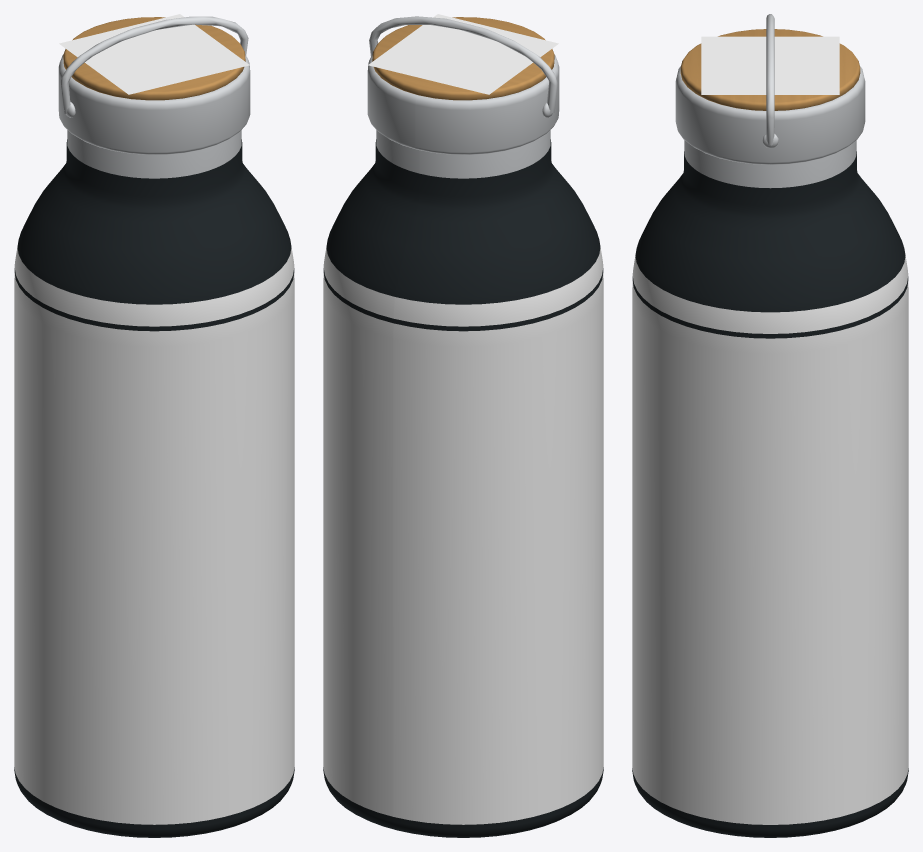
File: bottle-low-v01.glb
3 renders of one model, left to right at view 1: azimuth 30°, elevation 25°; view 2: azimuth 150°, elevation 25°; view 3: azimuth 270°, elevation 25°, orthographic.
Parts seen in each view (by area): view 1: BottleBodyDecoration, VacuumBottleBody, LidSteelCollar, BambooTopDecoration, SteelNeckAndInnerWall, LidBambooTop, SteelCarryHandle; view 2: BottleBodyDecoration, VacuumBottleBody, LidSteelCollar, BambooTopDecoration, SteelNeckAndInnerWall, LidBambooTop, SteelCarryHandle; view 3: BottleBodyDecoration, VacuumBottleBody, LidSteelCollar, BambooTopDecoration, SteelNeckAndInnerWall, LidBambooTop, SteelCarryHandle.
Boxes of the visible parts, x1,y1,x2,y2 form: BottleBodyDecoration: (14,240,294,824); VacuumBottleBody: (14,139,294,837); LidSteelCollar: (58,54,250,154); BambooTopDecoration: (59,14,249,94); SteelNeckAndInnerWall: (67,130,241,178); LidBambooTop: (63,17,245,100); SteelCarryHandle: (60,16,248,113); BottleBodyDecoration: (323,240,603,824); VacuumBottleBody: (323,139,603,837); LidSteelCollar: (367,54,559,154); BambooTopDecoration: (368,14,558,94); SteelNeckAndInnerWall: (376,130,550,178); LidBambooTop: (372,17,554,100); SteelCarryHandle: (369,16,557,113); BottleBodyDecoration: (632,255,908,824); VacuumBottleBody: (632,151,908,837); LidSteelCollar: (675,66,865,164); BambooTopDecoration: (701,36,839,94); SteelNeckAndInnerWall: (684,140,856,188); LidBambooTop: (680,29,860,110); SteelCarryHandle: (766,14,774,145).
Bounding box in the file's own units: 0.0701 × 0.2096 × 0.0701.
7 materials, 1 textured.
